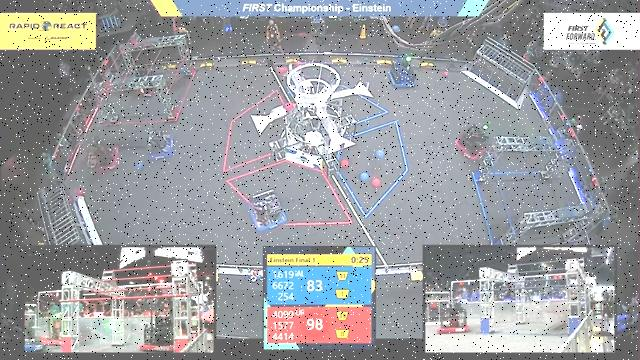Robot: (139, 115, 179, 162), (245, 189, 287, 233), (451, 120, 496, 161), (384, 49, 425, 91), (83, 132, 121, 177)
